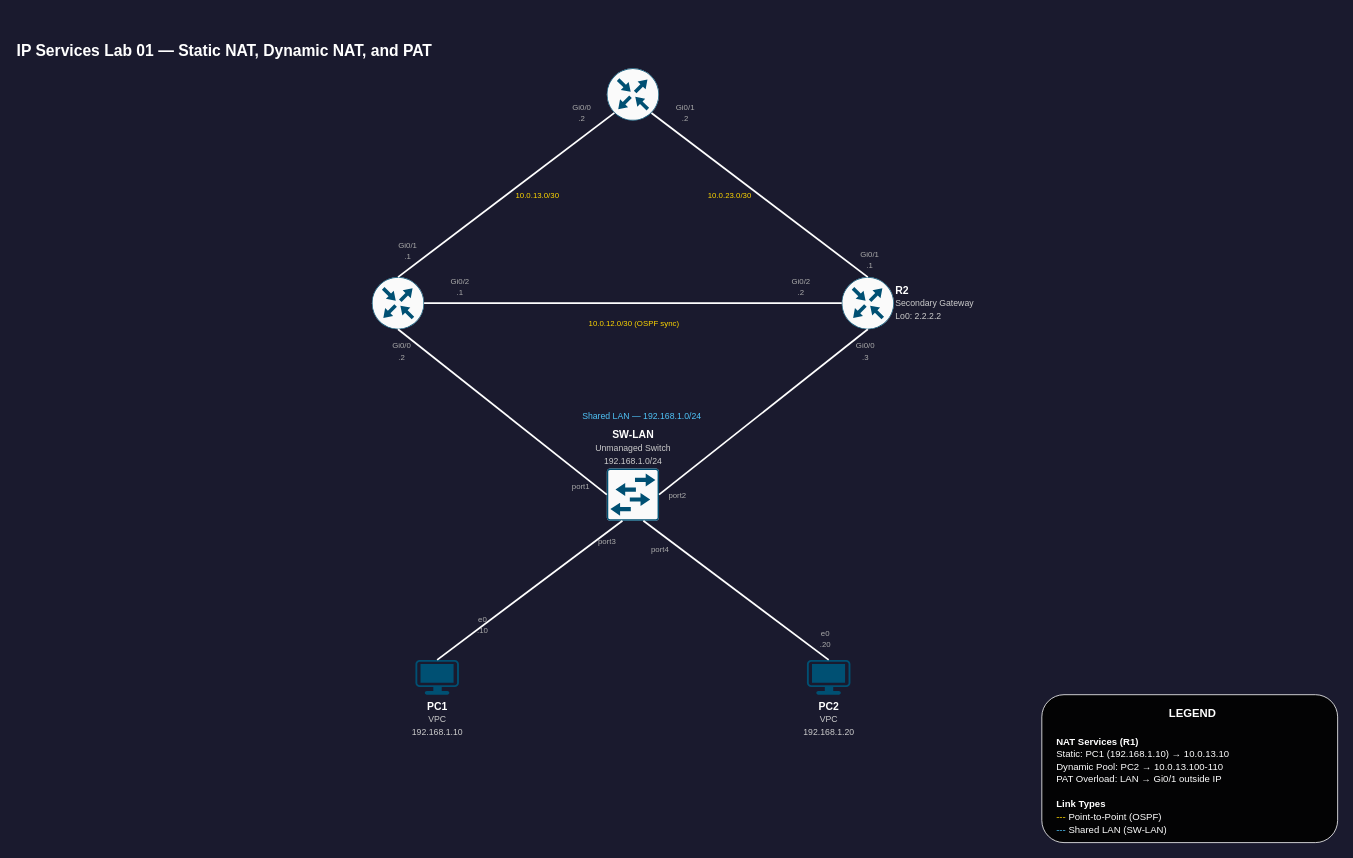
The diagram is 1353 pixels wide and 858 high, and some of its shapes have lost their labels. Here are the shapes that lost their labels. From the top down, the centre of each, then its label:
At point 632,93: "R3 Upstream / ISP Router Lo0: 3.3.3.3 Lo1: 203.0.113.1/24".
At point 397,302: "R1 Primary Gateway — NAT Router Lo0: 1.1.1.1".
